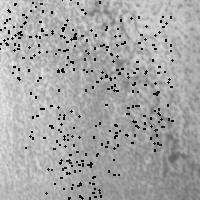pitted_surface: (82, 2, 197, 183), (6, 2, 150, 74), (58, 118, 118, 177), (112, 16, 171, 76), (7, 21, 66, 80), (57, 29, 114, 89), (105, 91, 163, 149), (61, 0, 116, 56), (116, 72, 171, 126), (25, 92, 78, 148), (43, 159, 100, 200), (0, 0, 52, 44), (0, 0, 30, 49)
